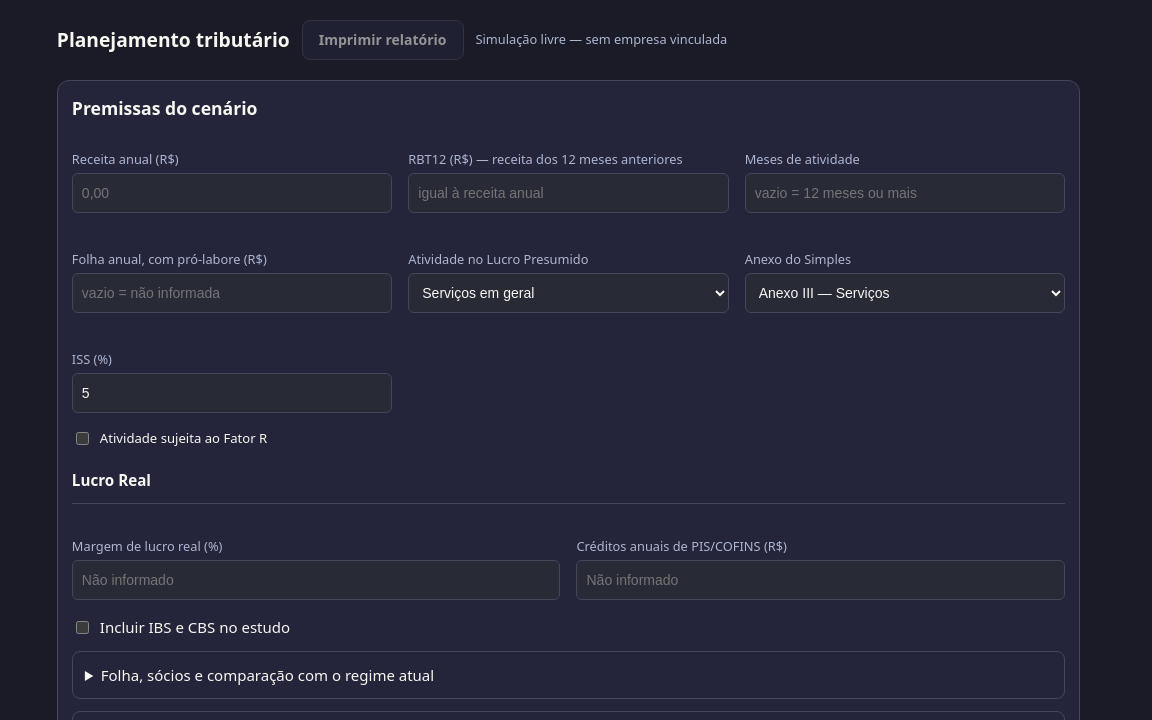
Test: ⚠⚠ ligar 'meses de atividade' LIMPA o RBT12, não só o esconde › ⚠⚠ e desligar NÃO ressuscita o fantasma — o campo continua vazio
The width and height of the screenshot is (1152, 720).
In the field labelled "Receita anual (R$)": (232, 193) top-left (72, 173), bottom-right (392, 213), type "88928609"
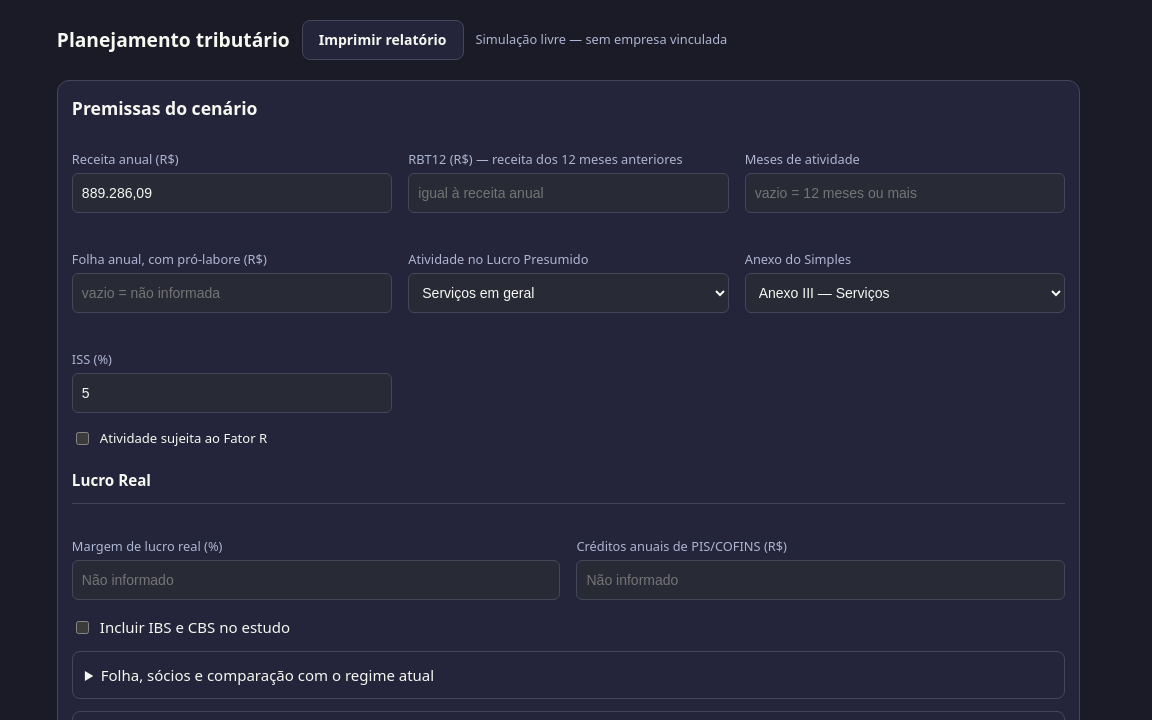
In the field labelled "RBT12 (R$) — receita dos 12 meses anteriores": (568, 193) top-left (408, 173), bottom-right (729, 213), type "71803609"
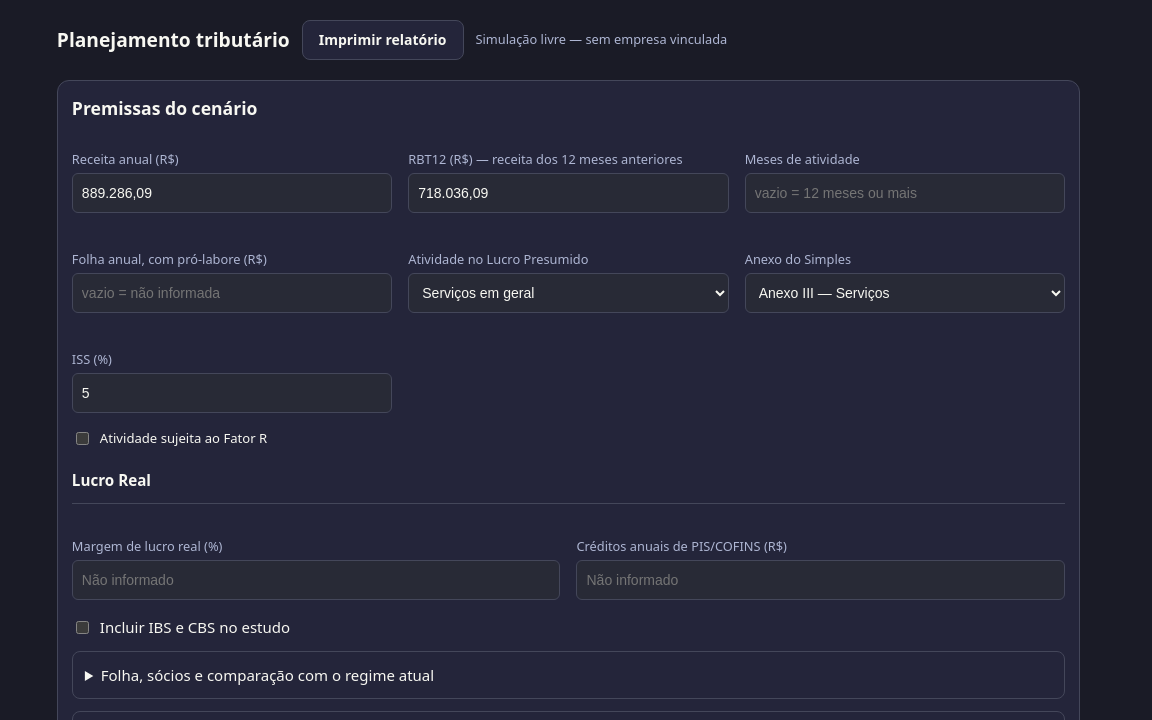
In the field labelled "Meses de atividade": (905, 193) top-left (745, 173), bottom-right (1065, 213), type "6"
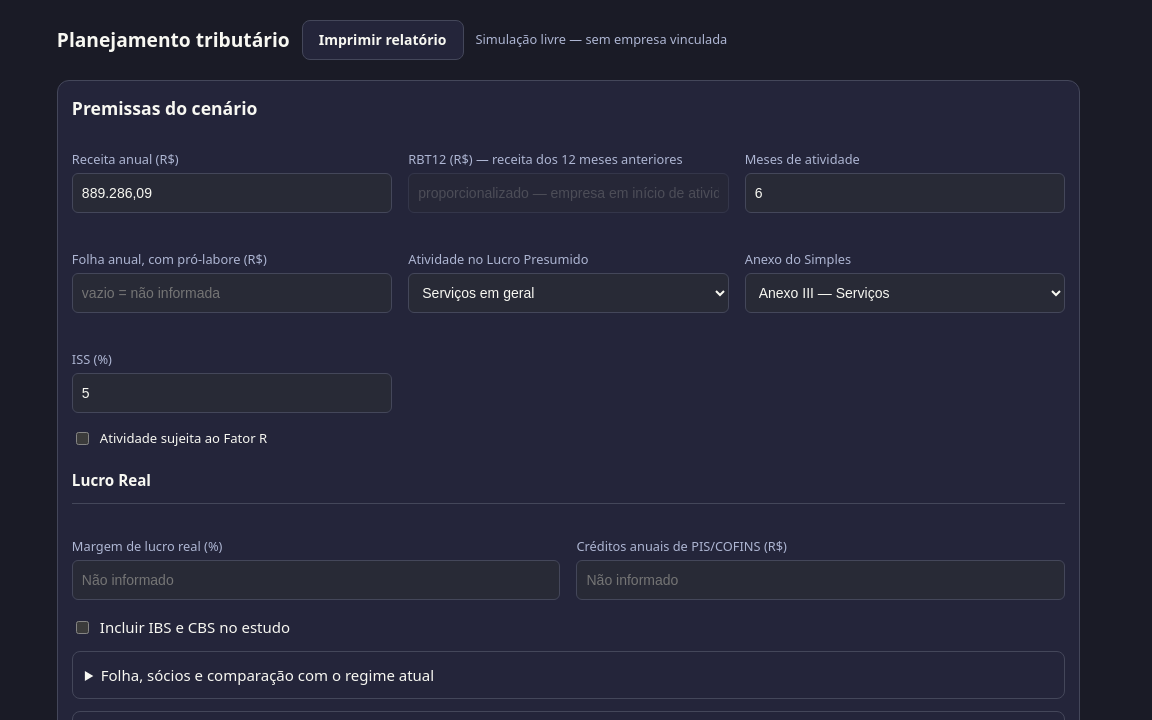
Expected: the field labelled "RBT12 (R$) — receita dos 12 meses anteriores" is empty, top-left (408, 173), bottom-right (729, 213)
Clear the field labelled "Meses de atividade": (905, 193) top-left (745, 173), bottom-right (1065, 213)
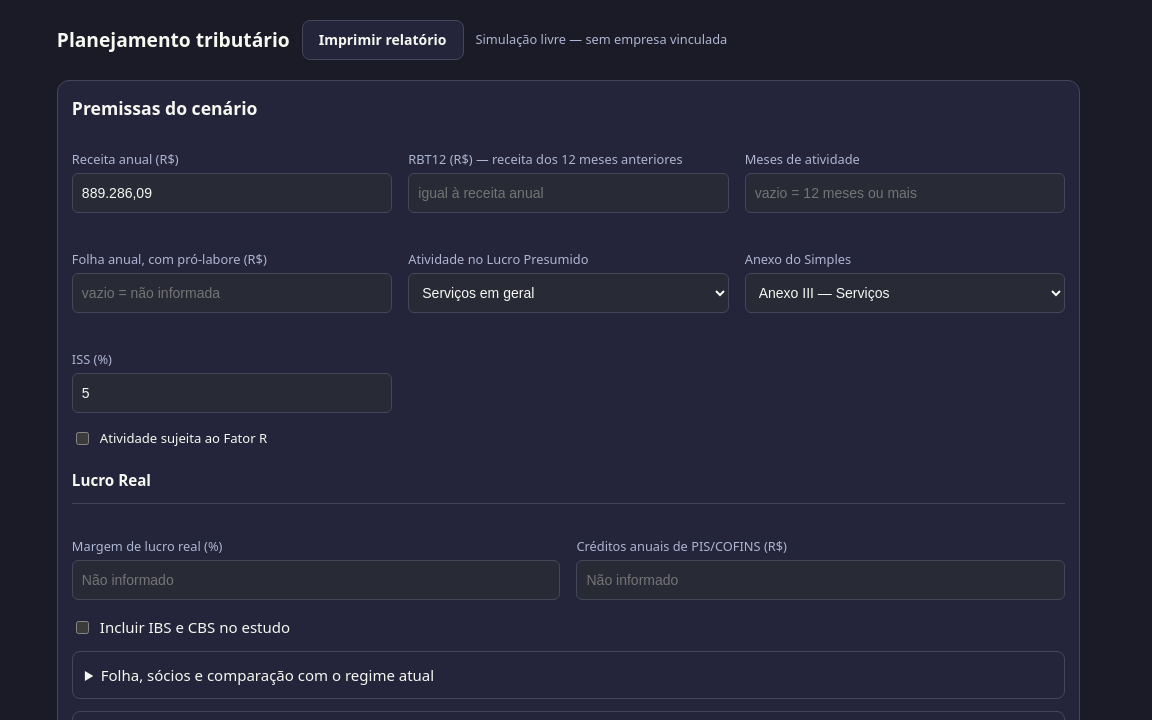
Expected: the field labelled "RBT12 (R$) — receita dos 12 meses anteriores" is empty, top-left (408, 173), bottom-right (729, 213)
Expected: the field labelled "RBT12 (R$) — receita dos 12 meses anteriores" is enabled, top-left (408, 173), bottom-right (729, 213)
